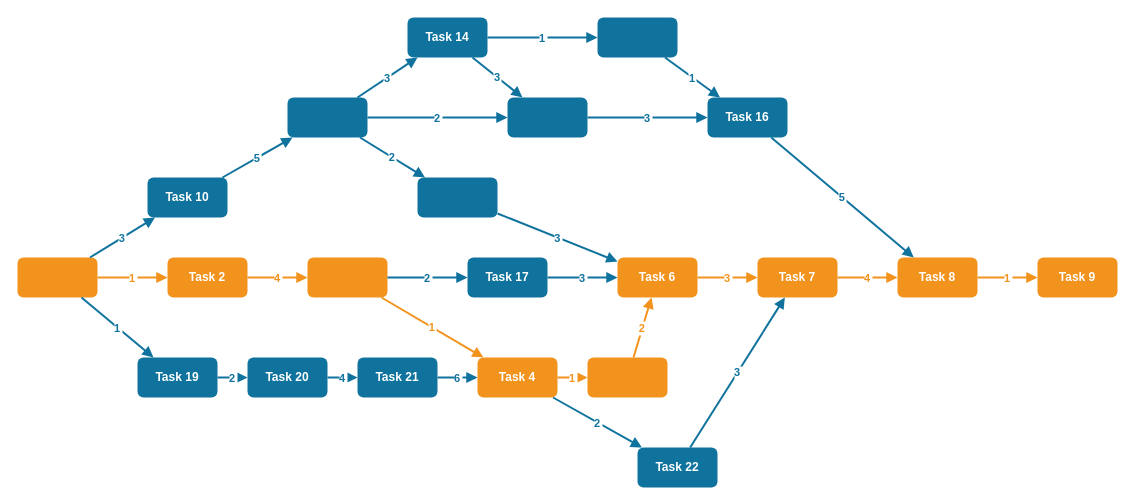
Image size: 1134x504. Some labels were removed from this diagram. The centre of each missing label's shape, as x and y in pixels:
"Task 1" goes at point (57, 277).
"Task 11" goes at point (327, 117).
"Task 12" goes at point (457, 197).
"Task 15" goes at point (637, 37).
"Task 18" goes at point (547, 117).
"Task 3" goes at point (347, 277).
"Task 5" goes at point (627, 377).
